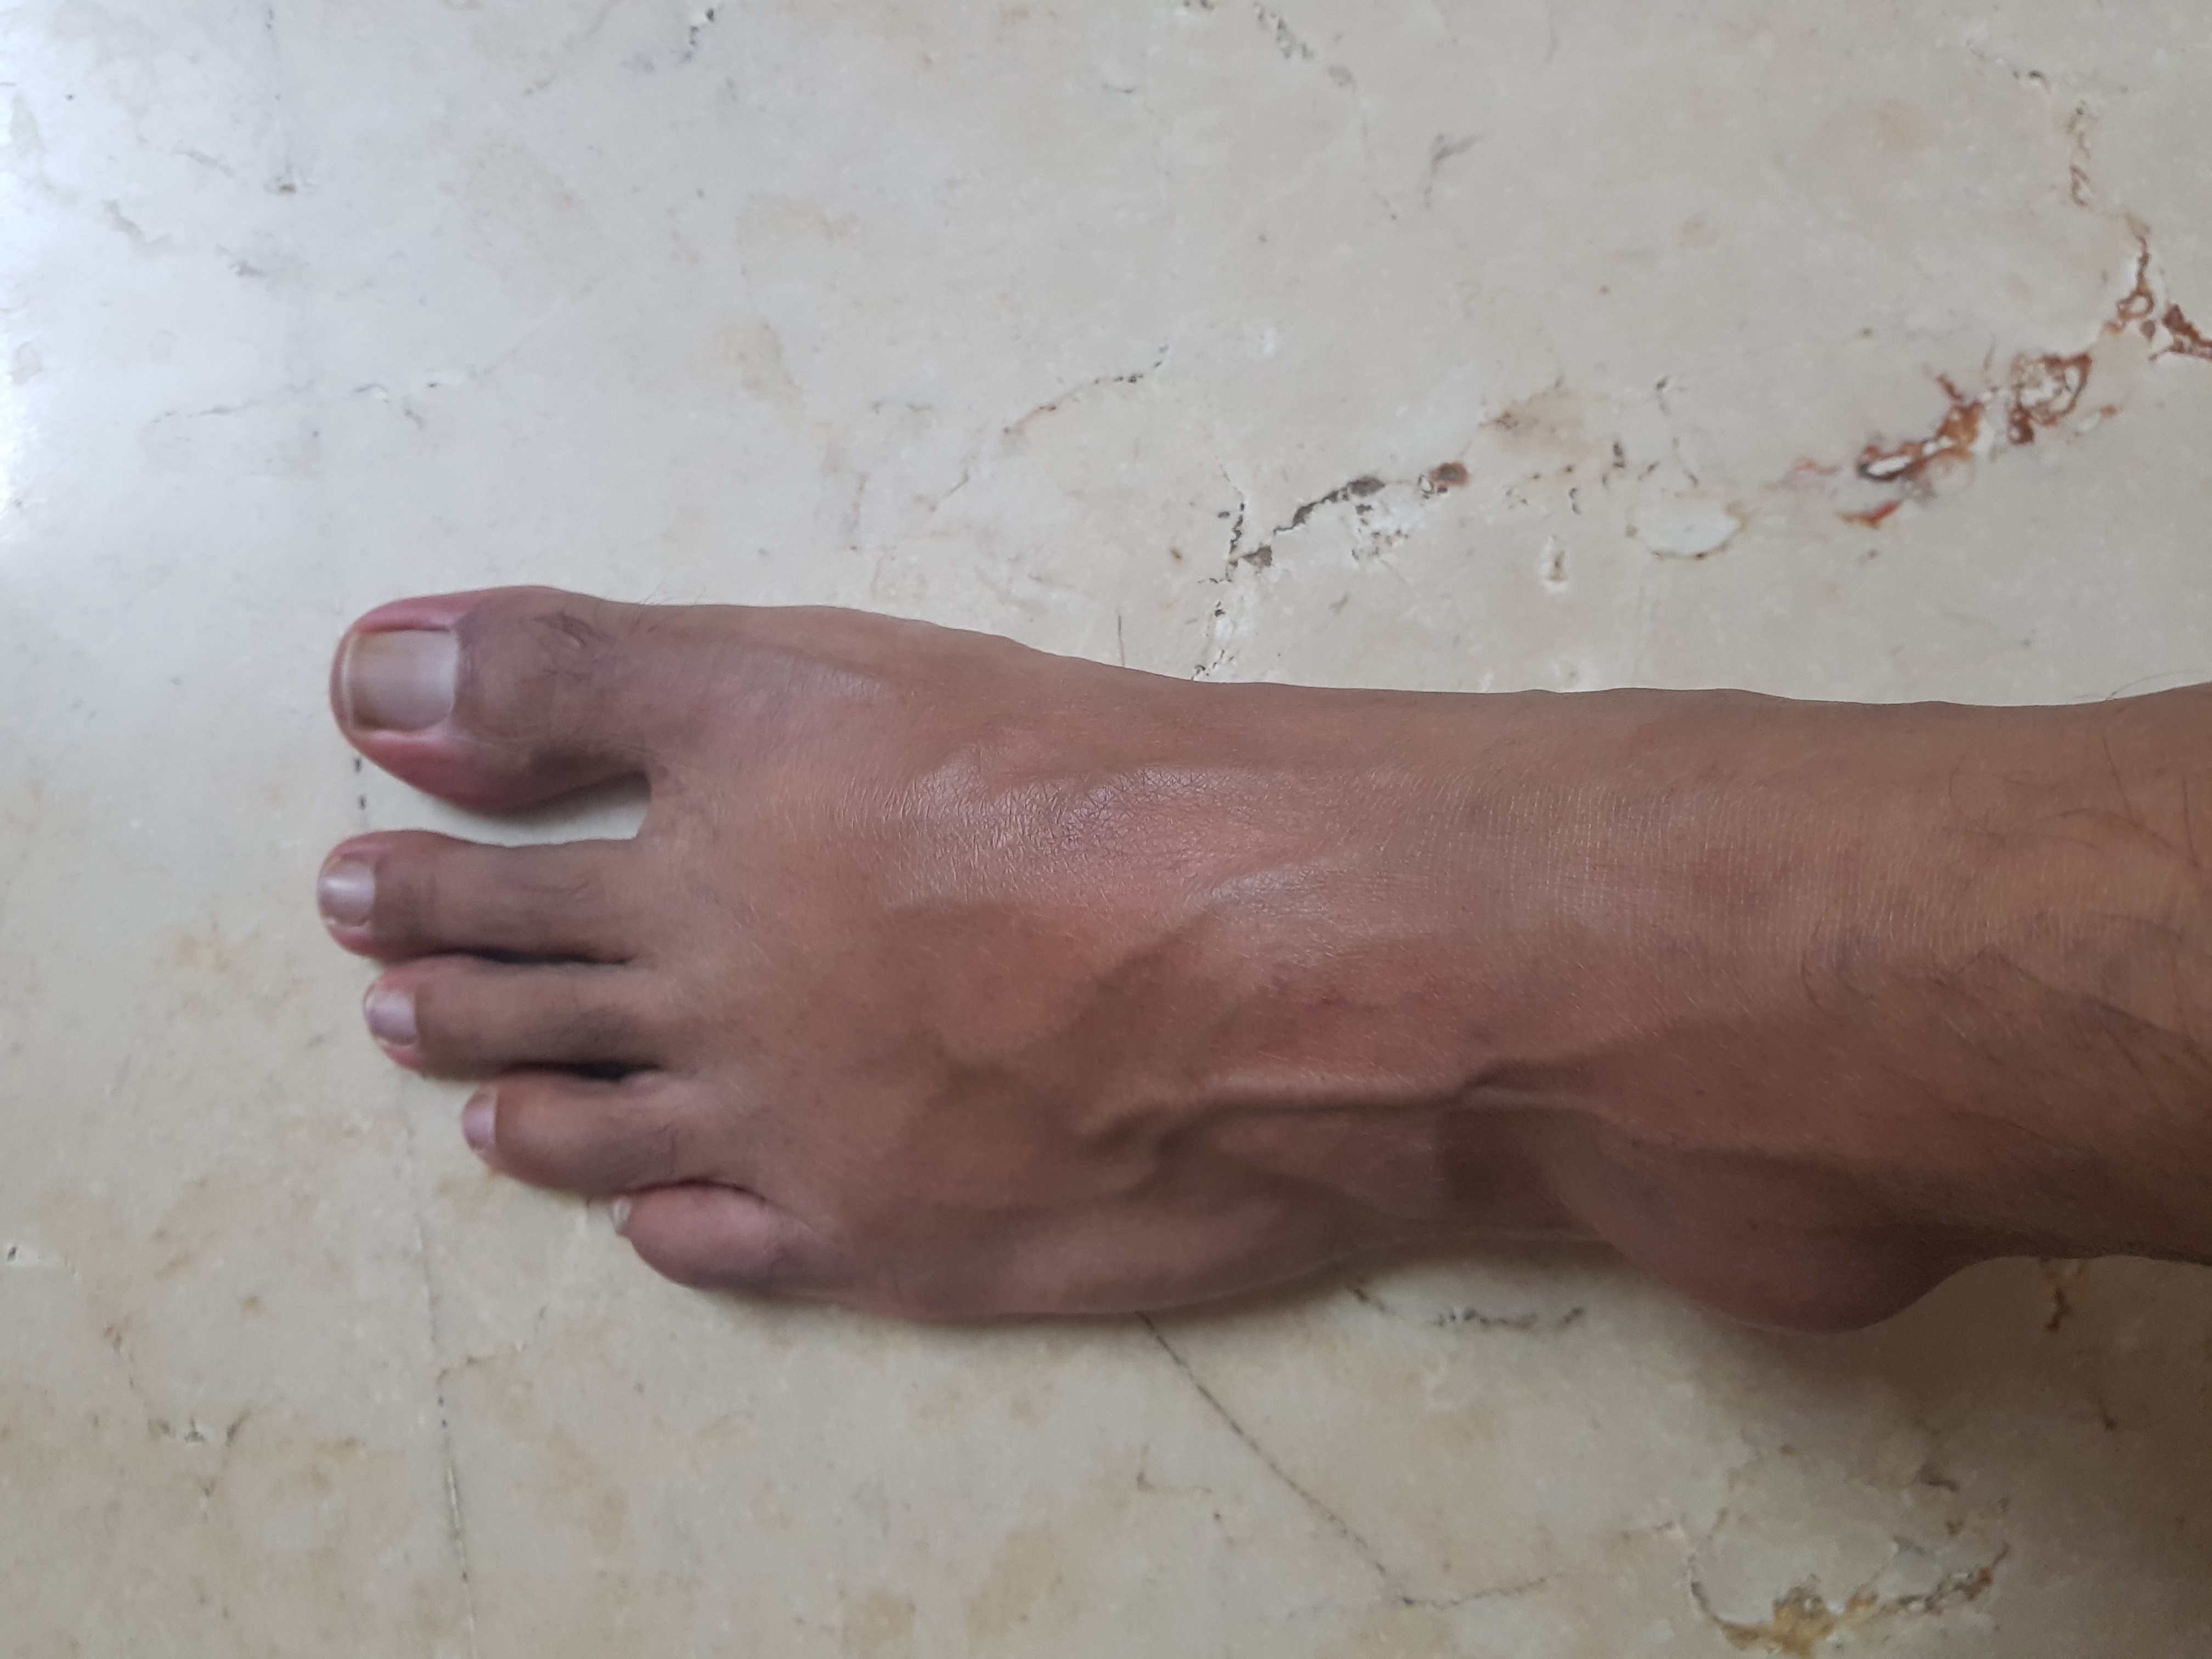feet: (221, 455, 2020, 1358)
